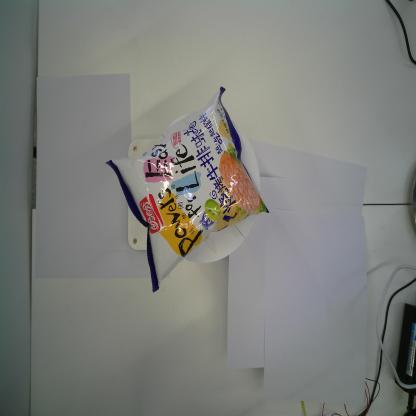Puffed Food: (104, 85, 270, 295)
